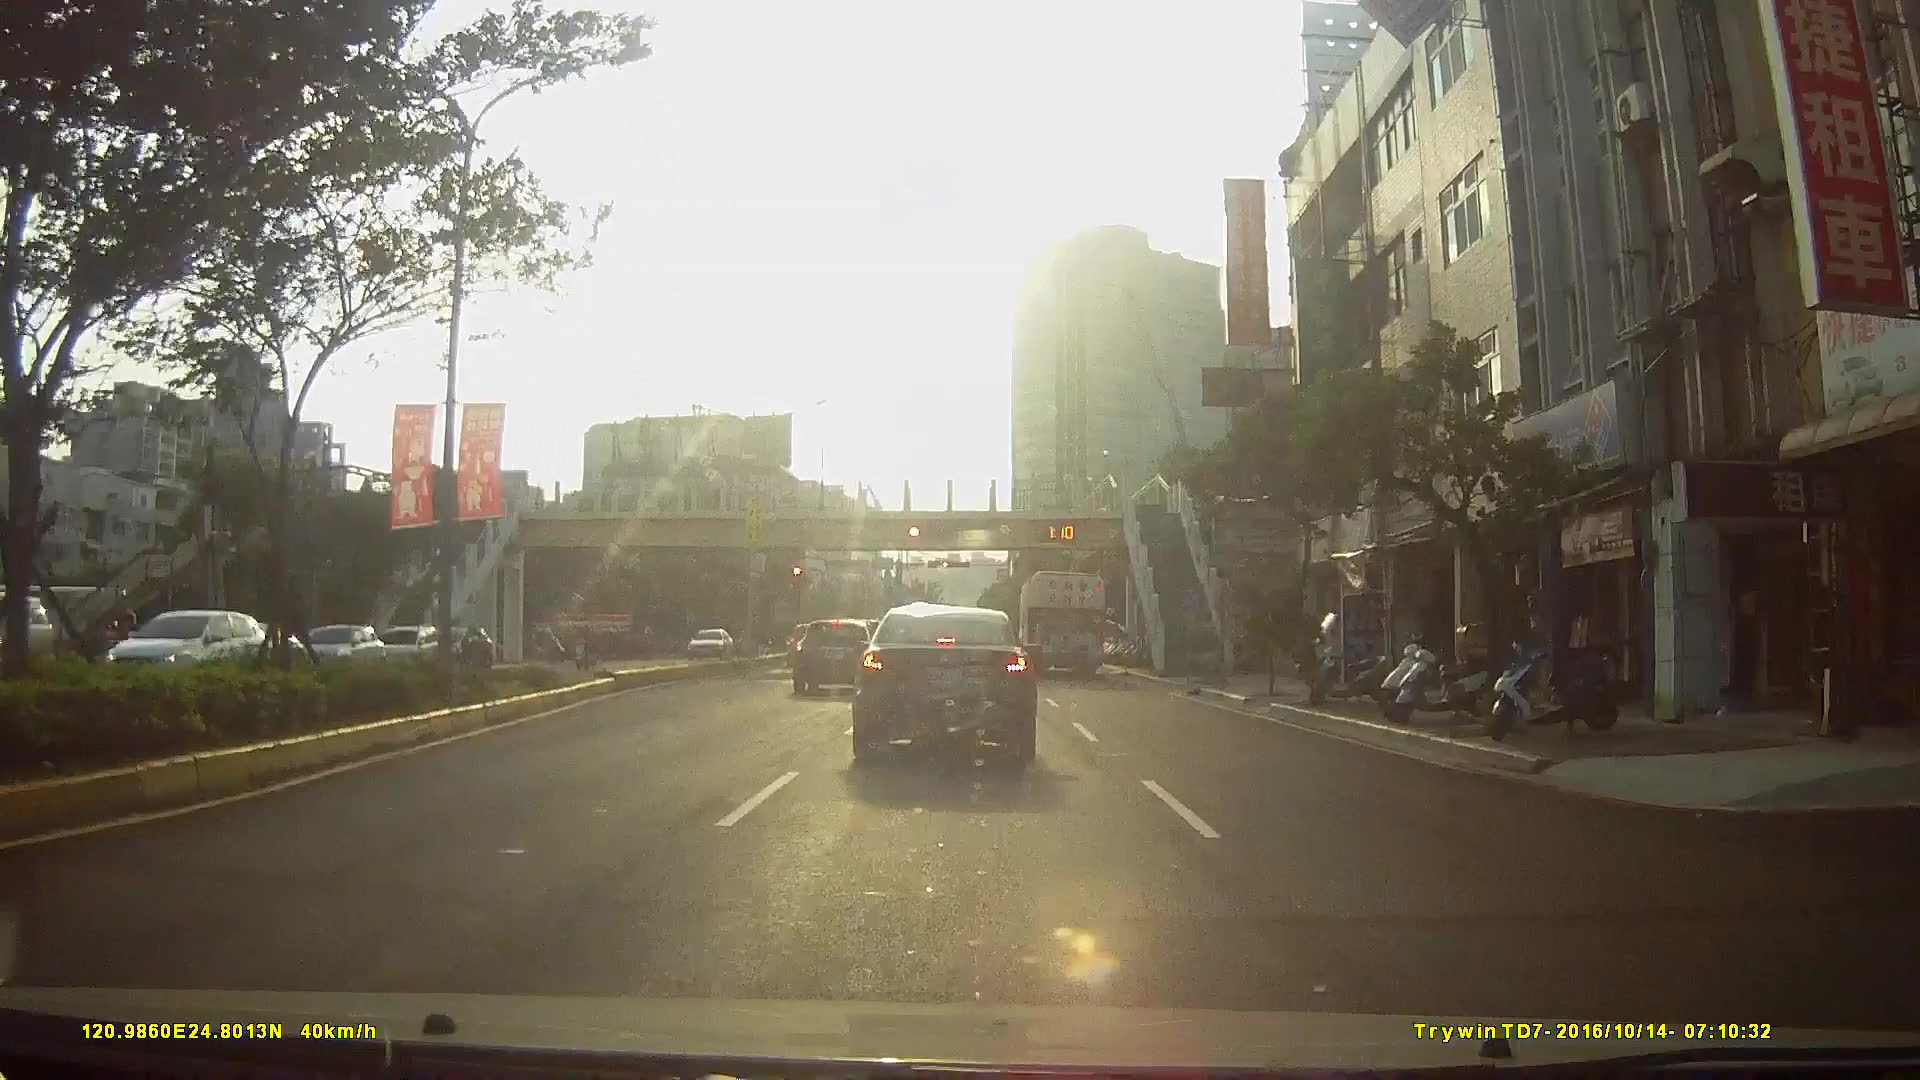rider: (571, 624, 605, 670)
vehicle: (849, 601, 1039, 761), (1016, 566, 1111, 678), (788, 614, 877, 695), (292, 623, 386, 675), (427, 624, 493, 668), (682, 624, 733, 661)
